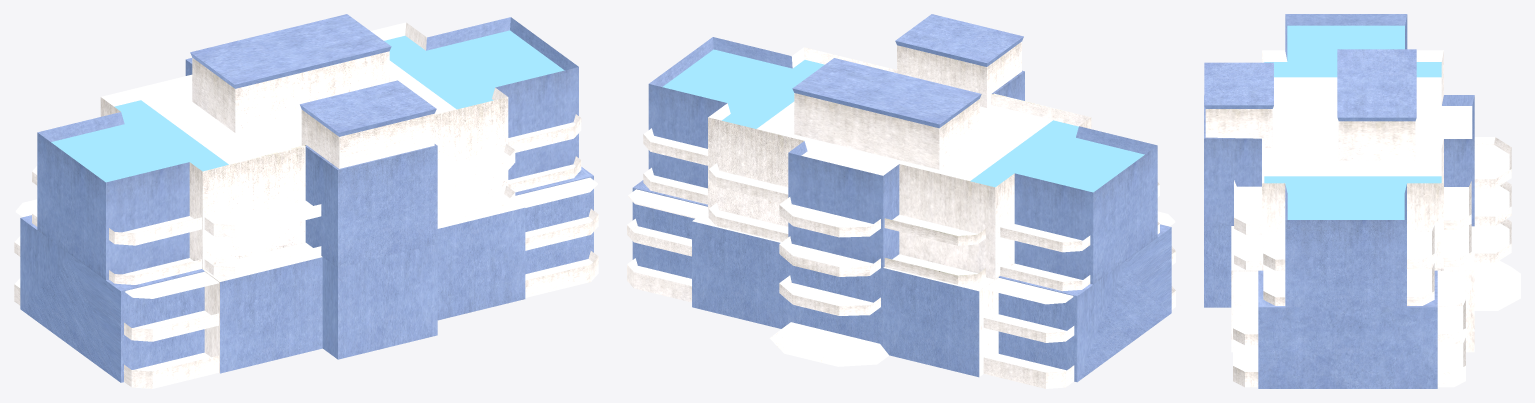
File: ORB_8_4S_Detail_3.fbx
The picture shows the model from 3 angles, left to right: view 1: azimuth 30°, elevation 25°; view 2: azimuth 150°, elevation 25°; view 3: azimuth 270°, elevation 25°; orthographic projection. The views are drawn at different scales.
Parts seen in each view (by area): view 1: ORB_8_4S_Detail_3; view 2: ORB_8_4S_Detail_3; view 3: ORB_8_4S_Detail_3.
Boxes of the visible parts, left/top/right/bottom form: ORB_8_4S_Detail_3: left=14, top=14, right=598, bottom=388; ORB_8_4S_Detail_3: left=627, top=14, right=1175, bottom=388; ORB_8_4S_Detail_3: left=1204, top=14, right=1520, bottom=388.
Size of the model in its own units: 3002 by 1377 by 1951.
